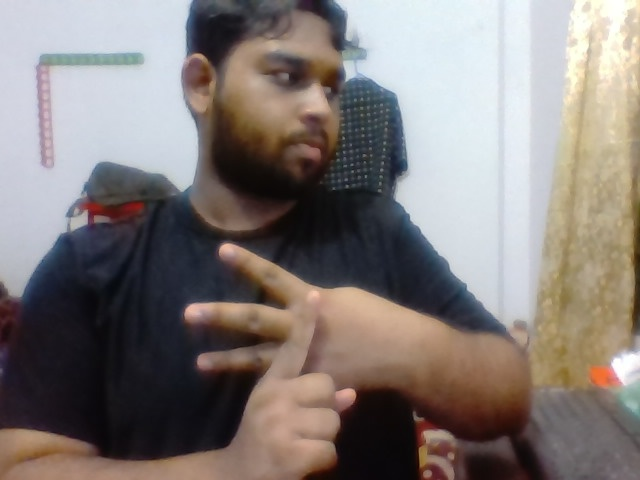E: (151, 226, 389, 478)
